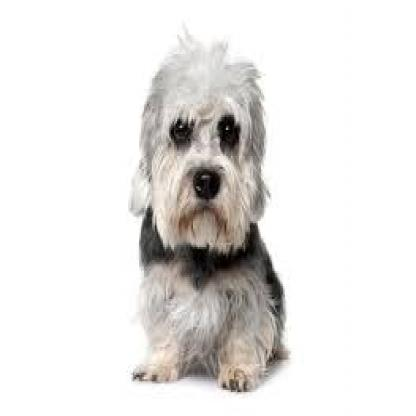Dandie Dinmont Terrier: (115, 14, 304, 394)
